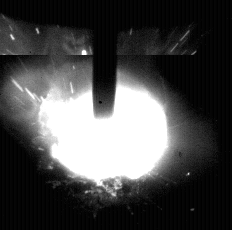arame: (93, 0, 117, 118)
poca: (37, 0, 168, 230)
